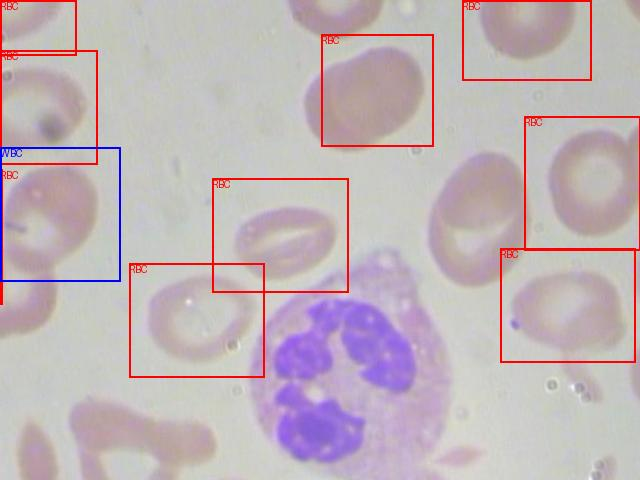RBC: (524, 116, 640, 250), (212, 178, 348, 292), (129, 263, 264, 377), (500, 248, 635, 362), (321, 34, 433, 146), (0, 50, 97, 164), (462, 0, 591, 80), (0, 0, 76, 55), (0, 169, 2, 304)
WBC: (0, 147, 120, 281)
